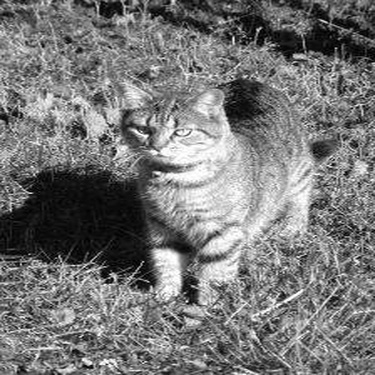cat: (116, 72, 318, 308)
